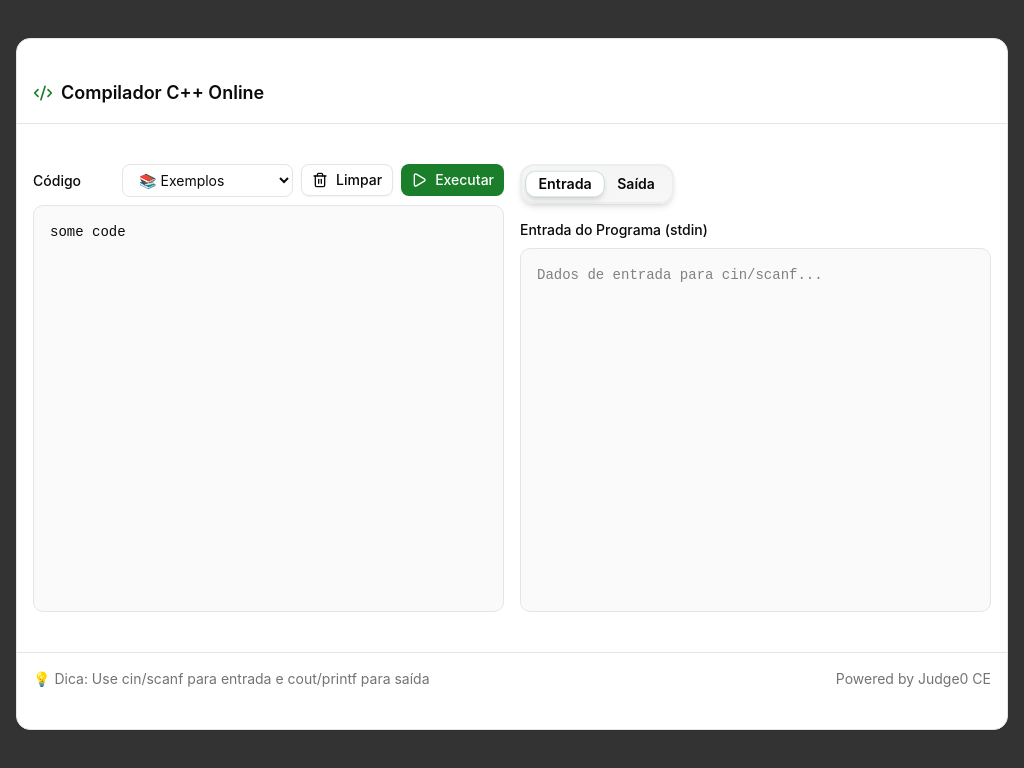
Test: CodeCompiler › clears code when clear button is clicked
This screenshot has width=1024, height=768.
What coordinates should you click on to do the following:
click the button "Limpar"
I would click on:
 (347, 180)
Its box is [301,164,393,196].
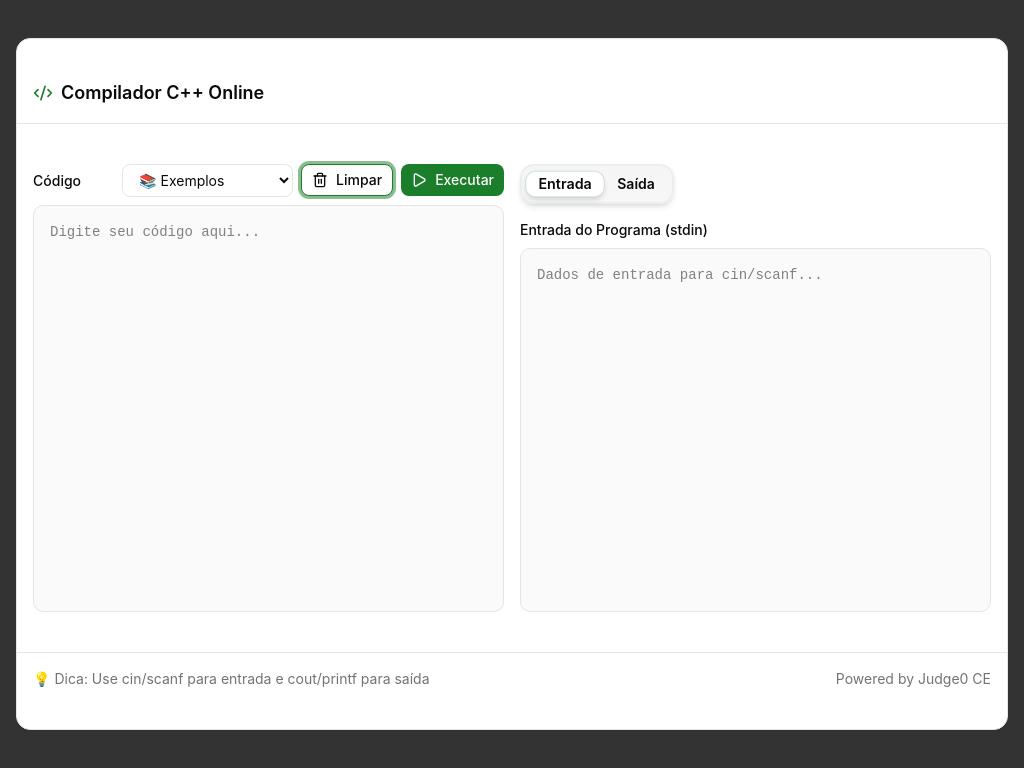
expect the text box with placeholder "Digite seu código aqui..." is empty: met, box [33,205,504,612]
